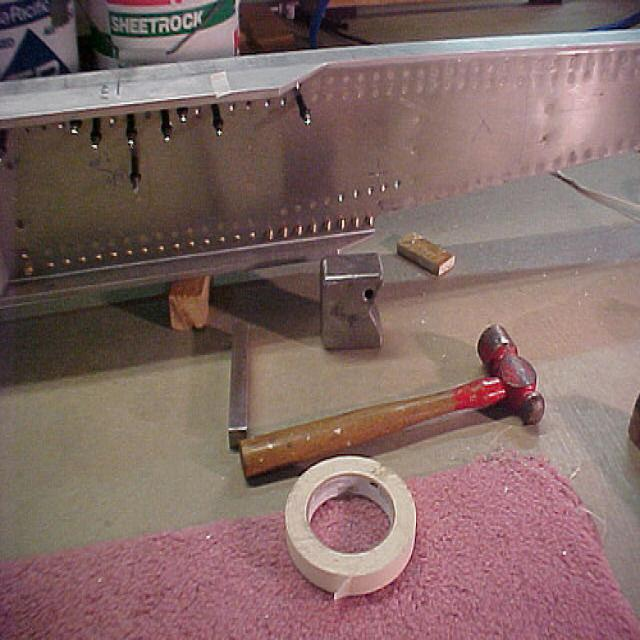hammer: (216, 328, 565, 457)
